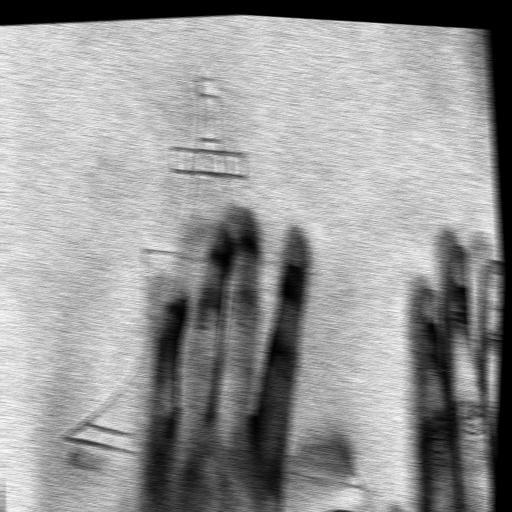eiffel-tower: (51, 23, 386, 499)
